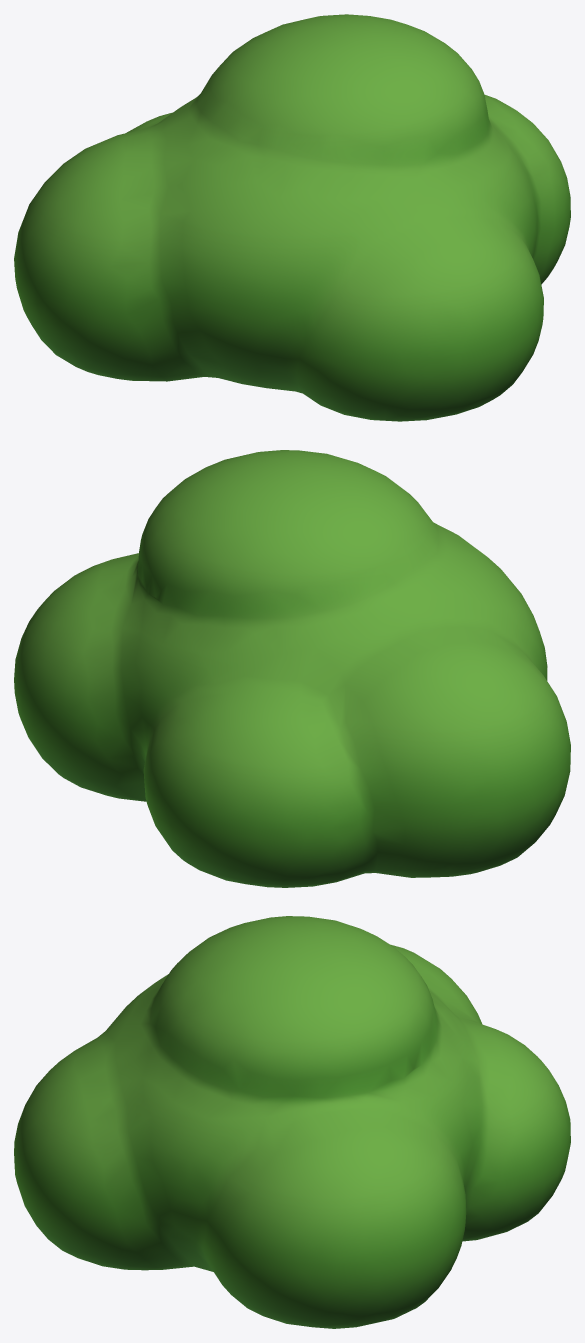
The picture shows the model from 3 angles, top to bottom: view 1: azimuth 30°, elevation 25°; view 2: azimuth 150°, elevation 25°; view 3: azimuth 270°, elevation 25°; orthographic projection. The views are drawn at different scales.
Visible parts, largest first — view 1: bush_leaves; view 2: bush_leaves; view 3: bush_leaves.
Part boxes in pixels (<box>): bush_leaves: <box>14,14,570,421</box>; bush_leaves: <box>14,450,570,887</box>; bush_leaves: <box>14,916,570,1328</box>.
Size of the model in its own units: 1.6 by 0.8805 by 1.49.
Materials: 1 (1 with a texture image).
